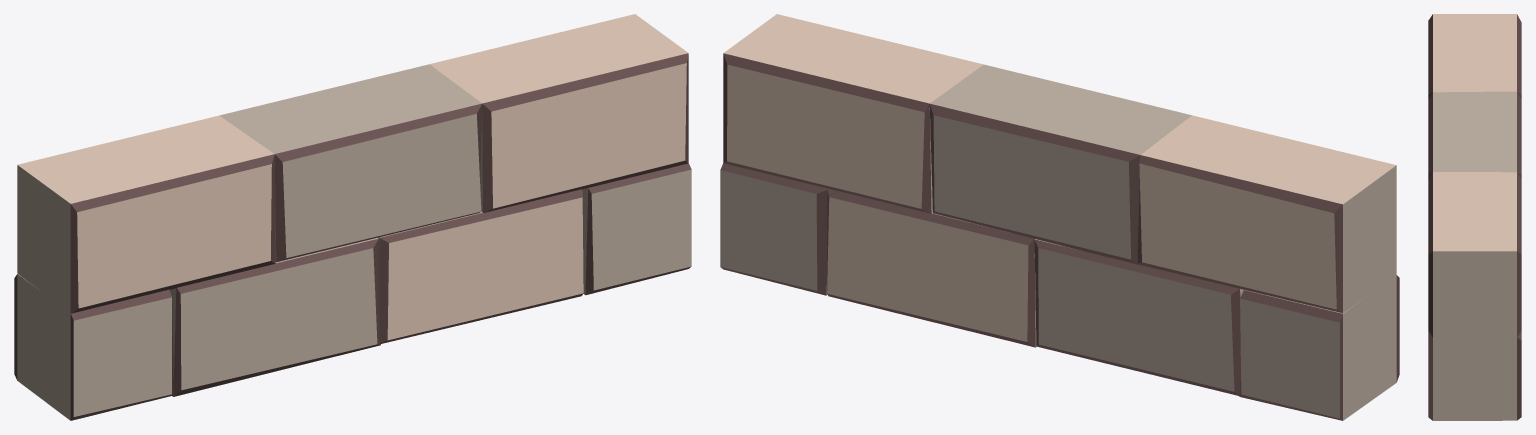
Rendered from greek_wall_1_short.fbx.
3 views of the same model, side by side, from view 1: azimuth 30°, elevation 25°; view 2: azimuth 150°, elevation 25°; view 3: azimuth 270°, elevation 25° (orthographic). The views are drawn at different scales.
Parts seen in each view (by area): view 1: Cube.014; view 2: Cube.014; view 3: Cube.014.
Part boxes in pixels (x1,y1,x2,y2): Cube.014: (14, 14, 691, 420); Cube.014: (720, 14, 1399, 420); Cube.014: (1428, 14, 1521, 420).
Bounding box in the file's own units: 300 × 101 × 50.02.
